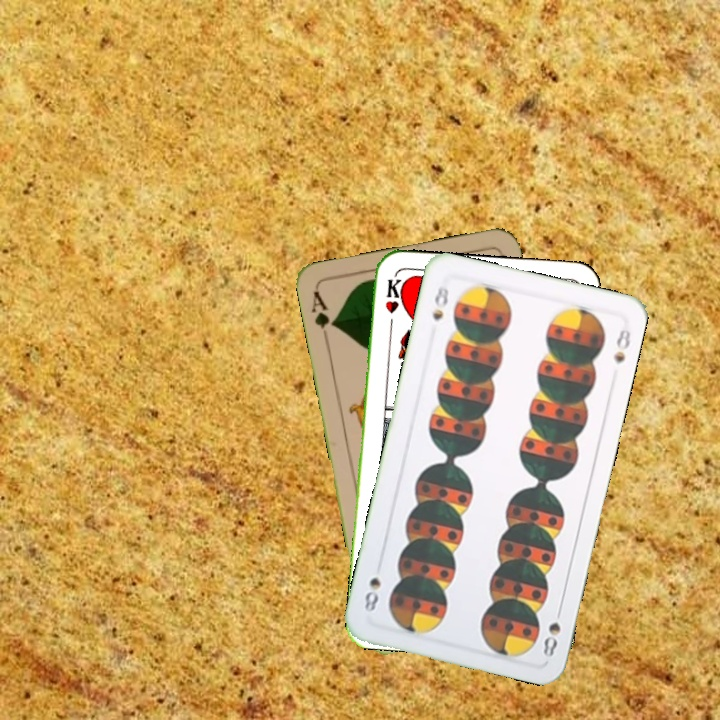GA: (307, 287, 338, 346)
HK: (381, 274, 404, 333)
S8: (539, 602, 565, 660), (428, 282, 452, 324)
